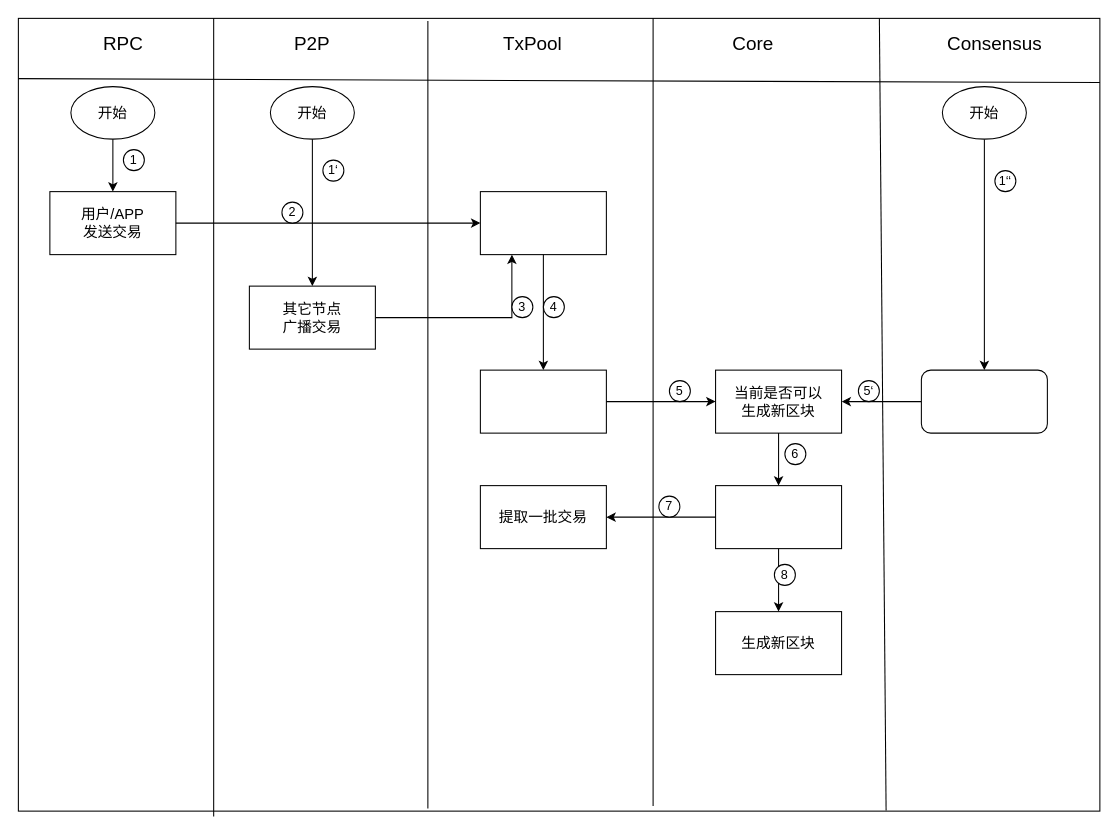
Image size: 1119x836. Some labels were removed from this diagram. The centre of each missing label's shape, as x and y in pixels:
"交易池容量是 否已满，触发新区块生成请求" belongs at (x=542, y=401).
"依据共识状态 进行判断" belongs at (x=778, y=517).
"共识状态， 当前节点是否 为 Proposer" belongs at (x=983, y=401).
"验证交易， 添加进交易池" belongs at (x=542, y=223).
